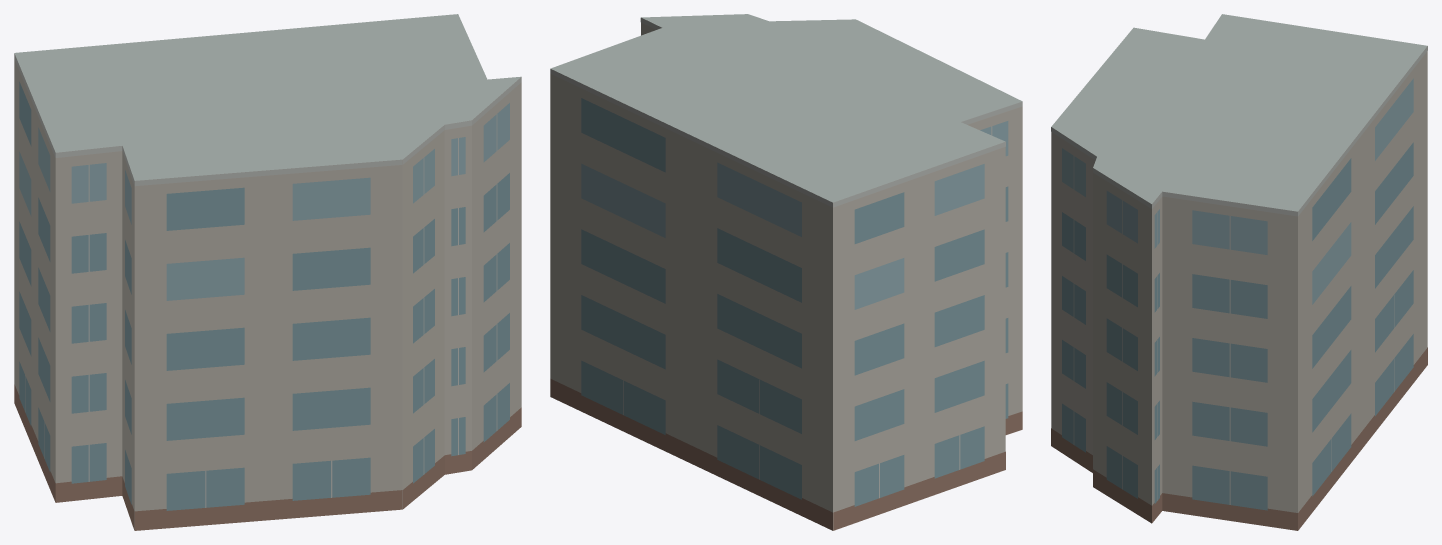
File: survey-upis-32848006.glb
3 views of the same model, side by side, from view 1: azimuth 30°, elevation 25°; view 2: azimuth 150°, elevation 25°; view 3: azimuth 270°, elevation 25° (orthographic). The views are drawn at different scales.
Parts seen in each view (by area): view 1: survey-upis-32848006.tmp; view 2: survey-upis-32848006.tmp; view 3: survey-upis-32848006.tmp.
Part boxes in pixels (box(x1,y1,x2,y2)): survey-upis-32848006.tmp: box(14, 14, 521, 530); survey-upis-32848006.tmp: box(550, 14, 1022, 530); survey-upis-32848006.tmp: box(1051, 14, 1427, 530).
Size of the model in its own units: 21.39 by 16.1 by 17.22.
